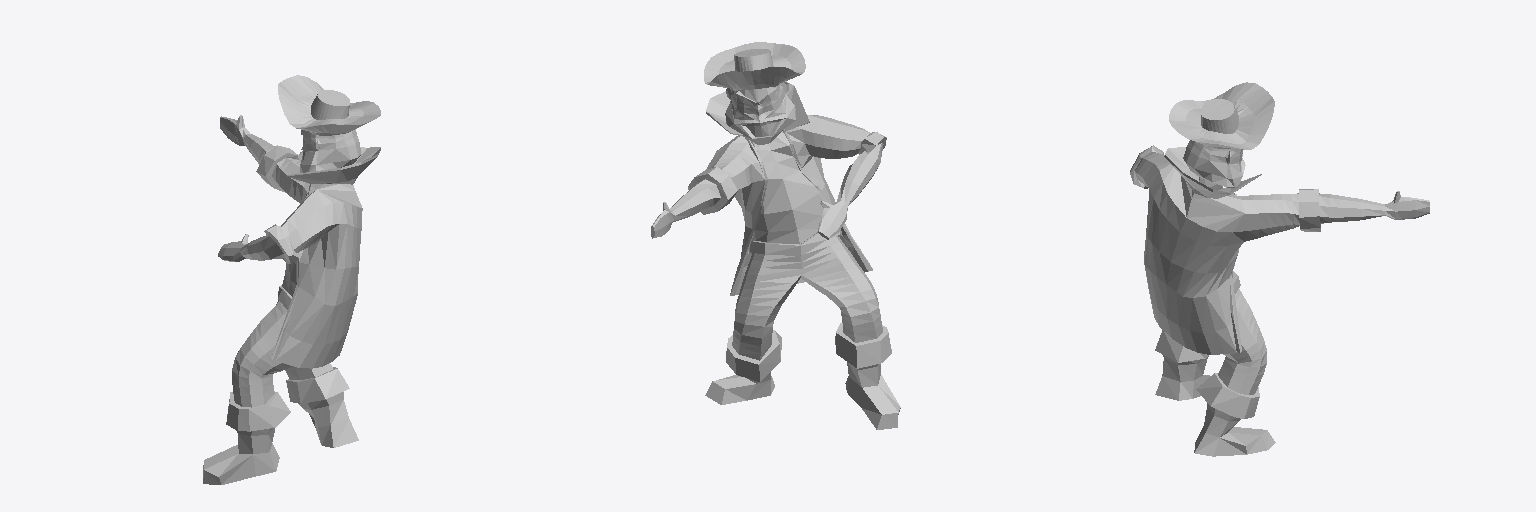
The model's file is pirata_000428.obj.
3 renders of one model, left to right at view 1: azimuth 30°, elevation 25°; view 2: azimuth 150°, elevation 25°; view 3: azimuth 270°, elevation 25°, orthographic.
Parts seen in each view (by area): view 1: Pirata_PirataH; view 2: Pirata_PirataH; view 3: Pirata_PirataH.
Part boxes in pixels (bbox=[...]): Pirata_PirataH: bbox=[203, 75, 380, 484]; Pirata_PirataH: bbox=[651, 42, 900, 429]; Pirata_PirataH: bbox=[1130, 82, 1429, 456].
Size of the model in its own units: 4.96 by 9.21 by 7.05.